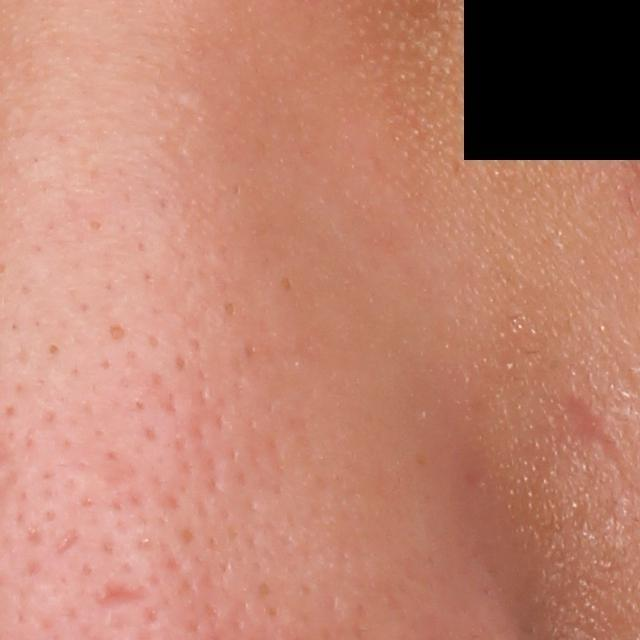atrophic_scar: (559, 390, 627, 471), (91, 577, 148, 607)
comedo: (105, 318, 131, 343), (221, 302, 238, 322), (44, 340, 61, 358)
